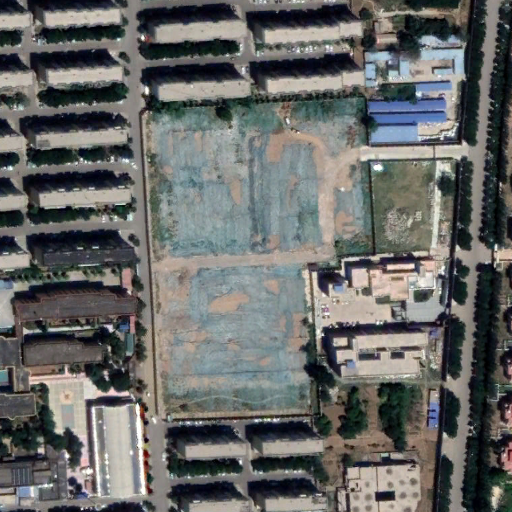cw: (144, 96, 374, 420)
